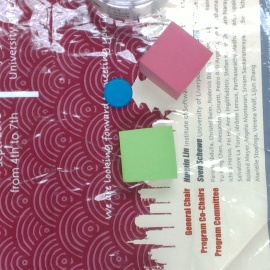blue: (103, 78, 134, 107)
